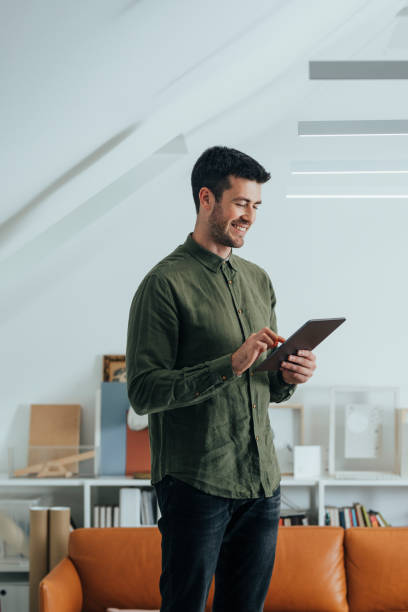Male: (120, 143, 348, 612)
